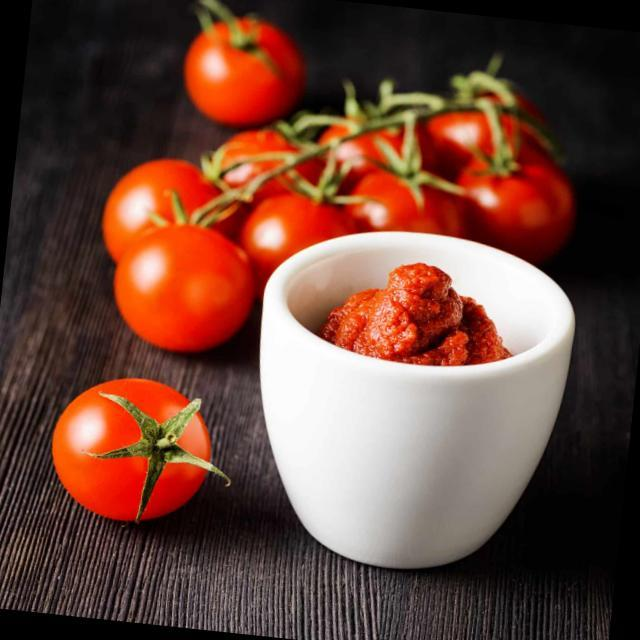TOMATO: (43, 373, 223, 535), (113, 221, 251, 355), (182, 11, 306, 128), (99, 131, 209, 240), (242, 179, 350, 279), (458, 142, 568, 234), (430, 79, 520, 151), (355, 164, 447, 232), (221, 123, 297, 187)
